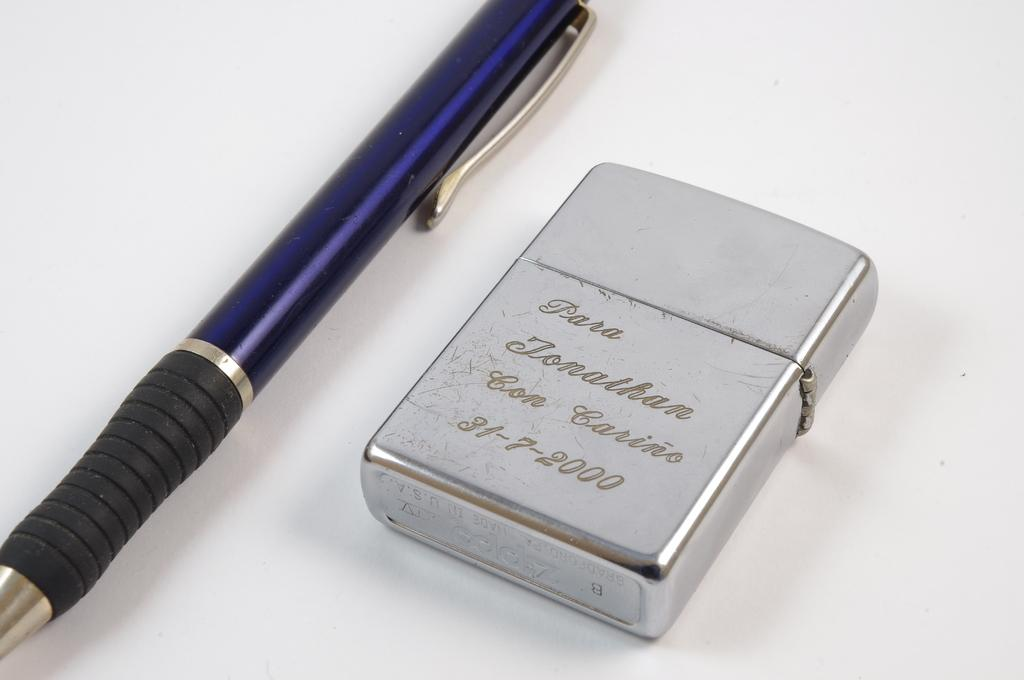pen: (0, 0, 595, 660)
